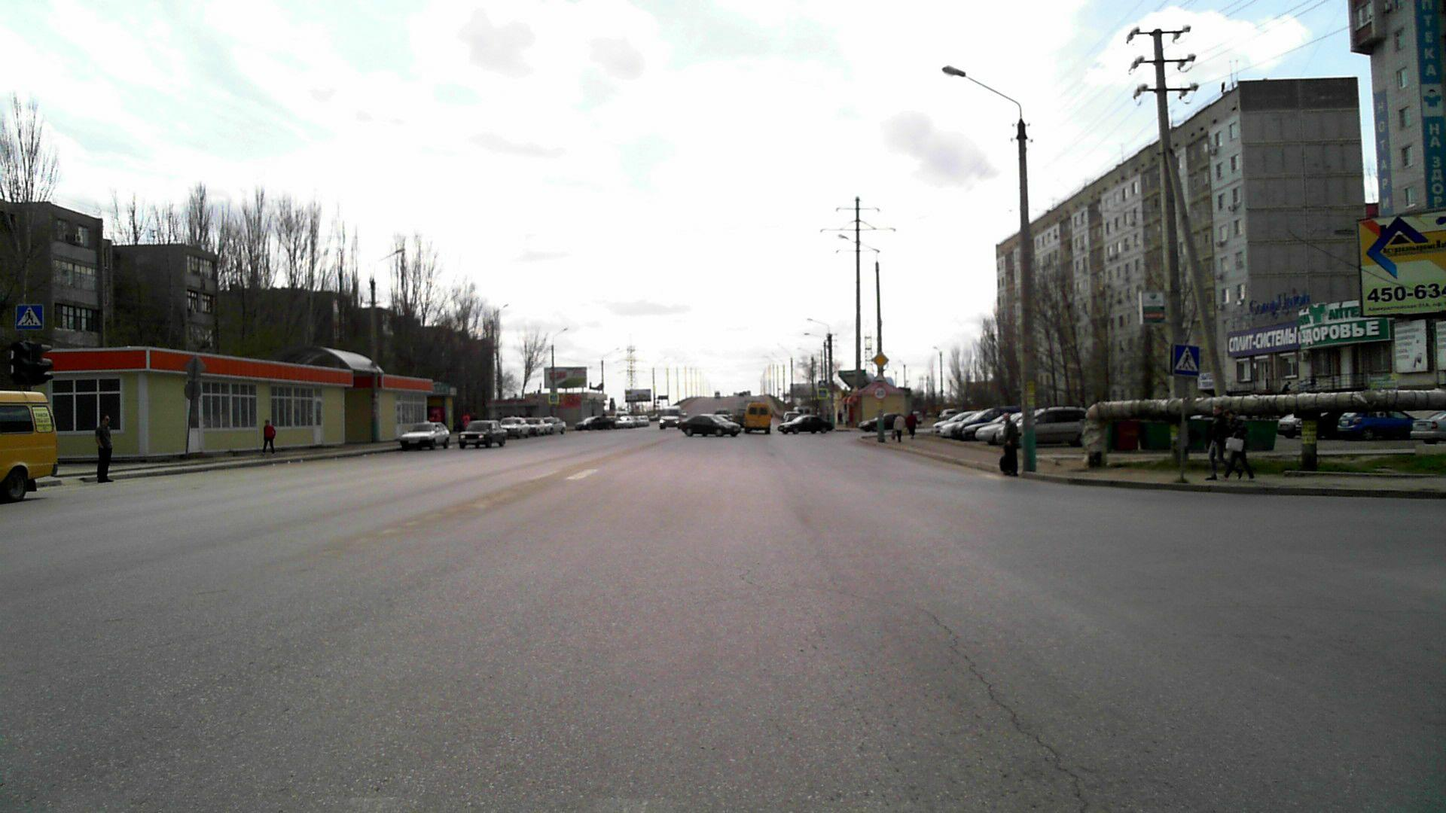road_sign: (1172, 343, 1200, 379)
